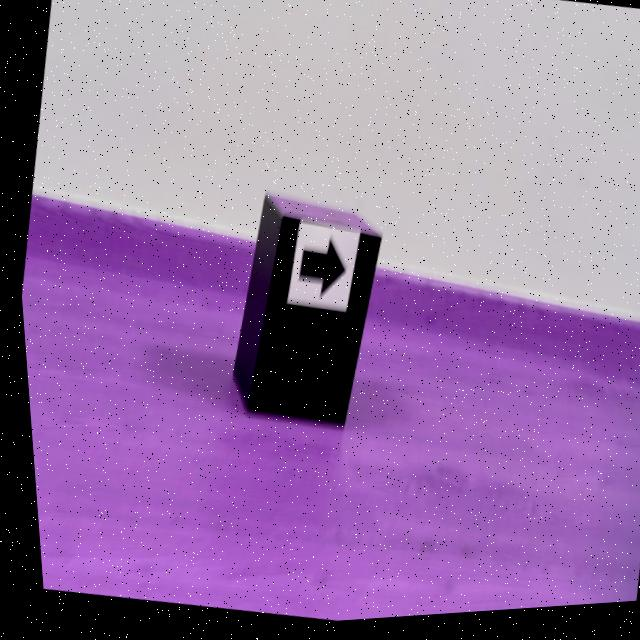RIGHT: (295, 245, 340, 300)
